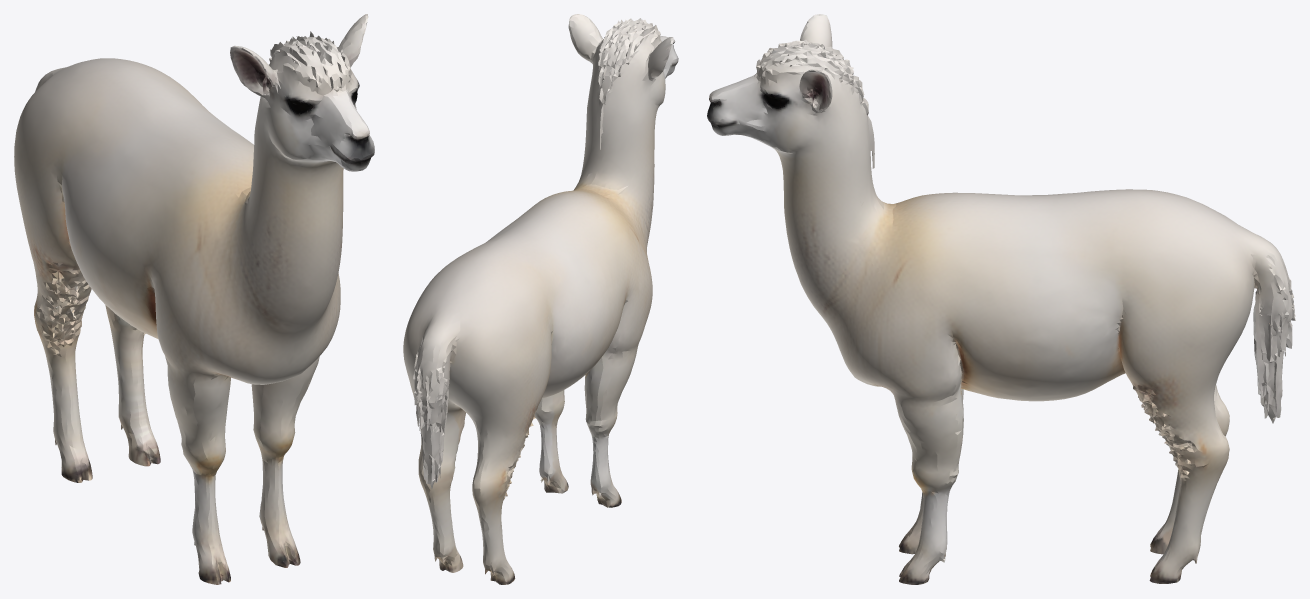
The model's file is alpaca.glb.
3 renders of one model, left to right at view 1: azimuth 30°, elevation 25°; view 2: azimuth 150°, elevation 25°; view 3: azimuth 270°, elevation 25°, orthographic. The views are drawn at different scales.
Parts seen in each view (by area): view 1: model; view 2: model; view 3: model.
Boxes of the visible parts, x1,y1,x2,y2 form: model: (14, 14, 374, 584); model: (403, 14, 678, 584); model: (707, 14, 1295, 584).
Size of the model in its own units: 0.6127 by 1.85 by 1.9.
Materials: 1 (1 with a texture image).
